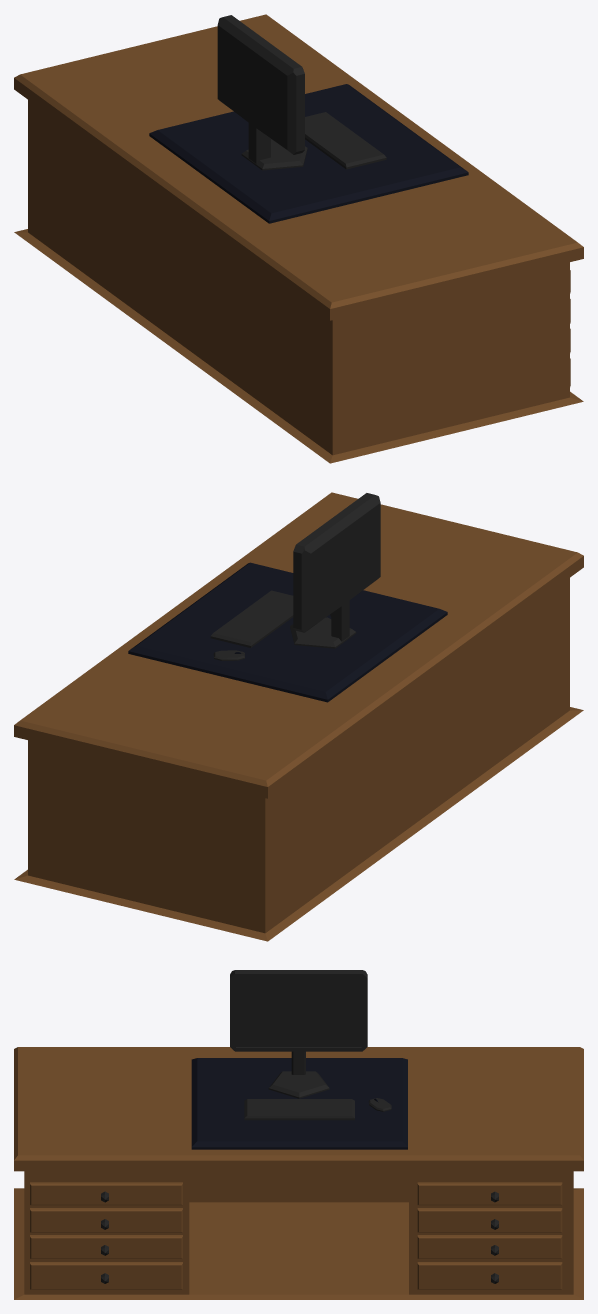
Rendered from geo_baronDesk_01.fbx.
3 views of the same model, one above another, from view 1: azimuth 30°, elevation 25°; view 2: azimuth 150°, elevation 25°; view 3: azimuth 270°, elevation 25° (orthographic). The views are drawn at different scales.
Parts seen in each view (by area): view 1: geo_desk_01, geo_DeskMatt_01, geo_Computer_01, geo_keyboard_01, geo_ComputerStand_01; view 2: geo_desk_01, geo_DeskMatt_01, geo_Computer_01, geo_keyboard_01, geo_ComputerStand_01; view 3: geo_desk_01, geo_DeskMatt_01, geo_Computer_01, geo_keyboard_01, geo_ComputerStand_01.
Part boxes in pixels (left/top/right/bottom): geo_desk_01: left=14, top=14, right=583, bottom=463; geo_DeskMatt_01: left=149, top=84, right=468, bottom=223; geo_Computer_01: left=217, top=15, right=304, bottom=163; geo_keyboard_01: left=305, top=112, right=386, bottom=169; geo_ComputerStand_01: left=241, top=139, right=307, bottom=170; geo_desk_01: left=14, top=492, right=583, bottom=941; geo_DeskMatt_01: left=128, top=562, right=447, bottom=702; geo_Computer_01: left=293, top=493, right=380, bottom=641; geo_keyboard_01: left=210, top=590, right=293, bottom=647; geo_ComputerStand_01: left=290, top=617, right=356, bottom=648; geo_desk_01: left=14, top=1047, right=583, bottom=1299; geo_DeskMatt_01: left=191, top=1058, right=407, bottom=1149; geo_Computer_01: left=230, top=970, right=367, bottom=1074; geo_keyboard_01: left=244, top=1099, right=354, bottom=1120; geo_ComputerStand_01: left=268, top=1071, right=329, bottom=1098.
Size of the model in its own units: 95.21 by 98.91 by 200.
